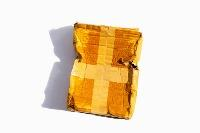damaged package: (118, 54, 135, 73)
undamaged: (61, 19, 145, 123)
